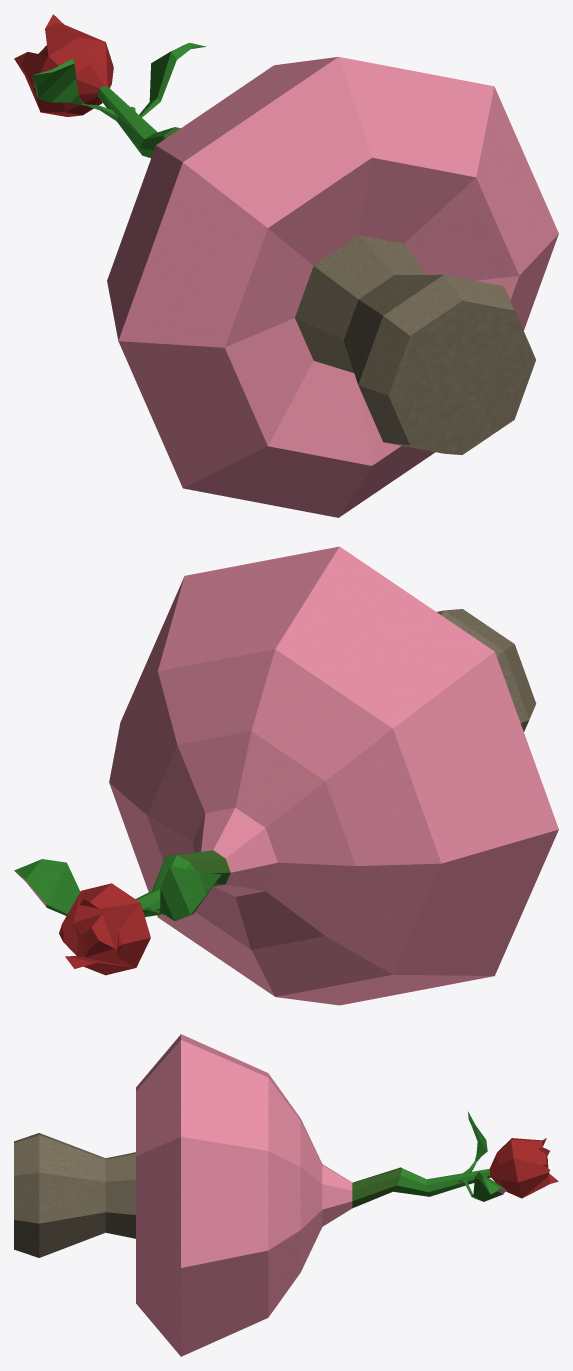
File: all_share_mushroom_3.FBX
3 views of the same model, one above another, from view 1: azimuth 30°, elevation 25°; view 2: azimuth 150°, elevation 25°; view 3: azimuth 270°, elevation 25° (orthographic). The views are drawn at different scales.
Visible parts, largest first — view 1: mushroom_3; view 2: mushroom_3; view 3: mushroom_3.
Boxes of the visible parts, <box> form: mushroom_3: <box>14,14,558,517</box>; mushroom_3: <box>14,546,558,1005</box>; mushroom_3: <box>14,1034,558,1356</box>.
Bounding box in the file's own units: 70.51 × 70.51 × 112.
